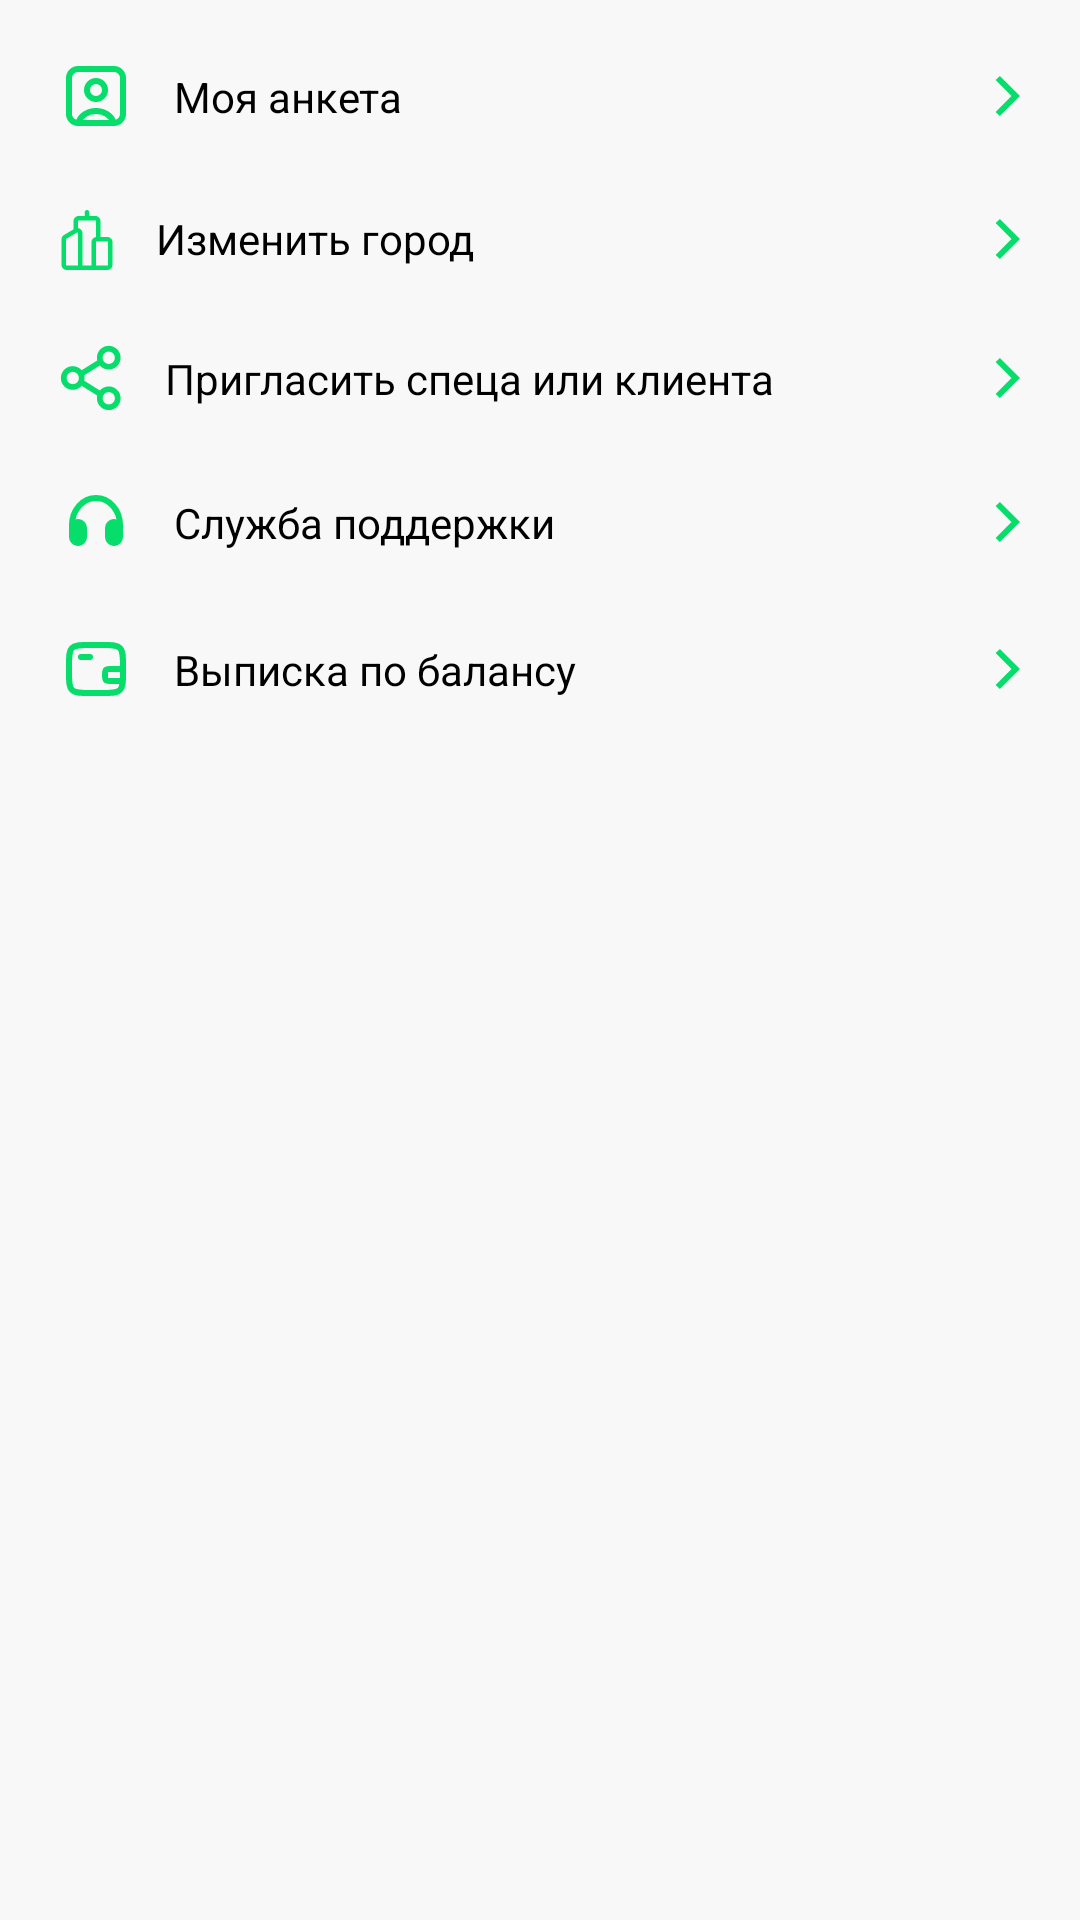

Named icons in this screenshot (1080 × 1920) and their bounding boxes, (x1, y1, x2, y2):
arrow right: (996, 76, 1020, 116), (996, 219, 1020, 259), (996, 358, 1020, 398), (996, 502, 1020, 542), (996, 649, 1020, 689)
city: (61, 210, 113, 270)
headphones: (69, 495, 123, 546)
share: (60, 345, 121, 410)
user: (66, 66, 126, 126)
wallet: (66, 642, 126, 696)
